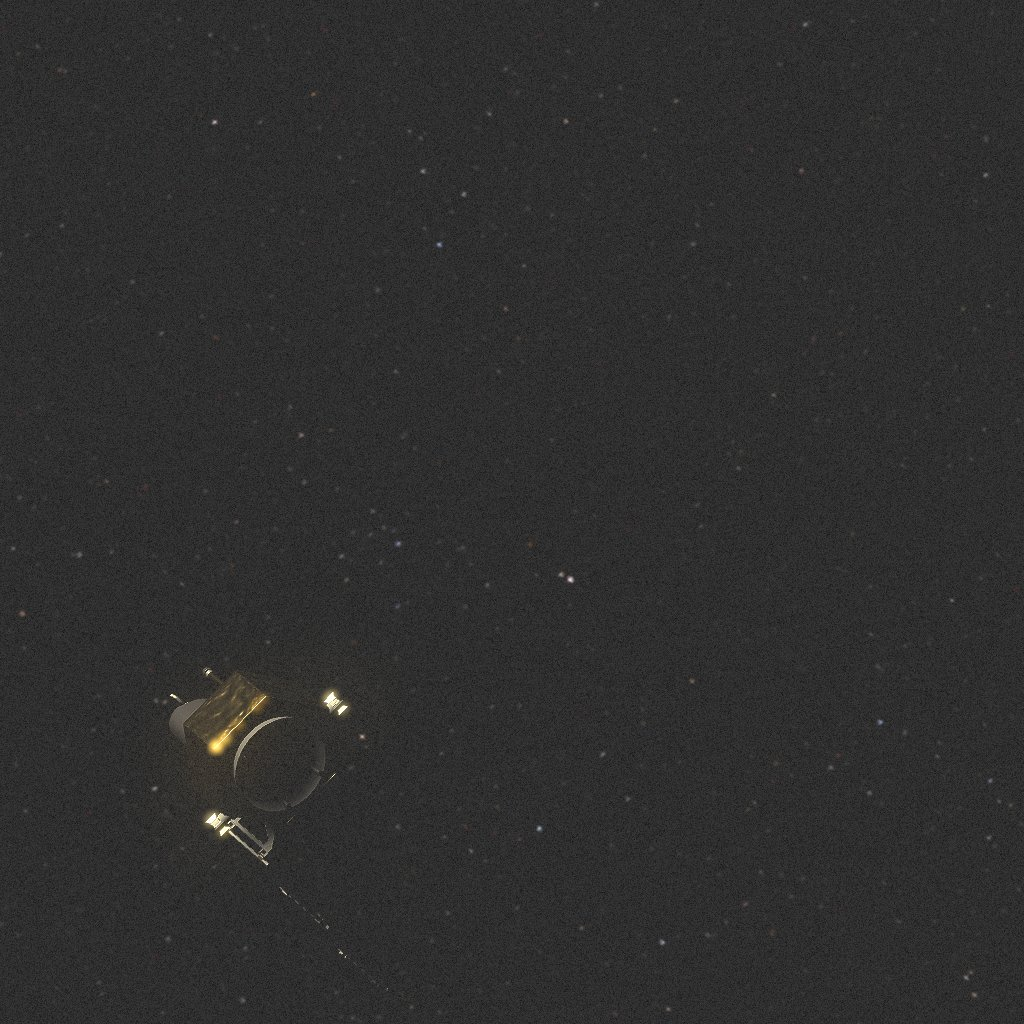earth_observation_sat_1: (166, 630, 416, 994)
